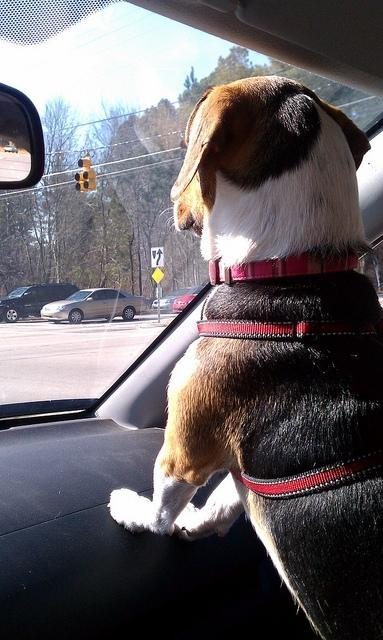car: (39, 286, 149, 323), (0, 282, 79, 324), (152, 287, 191, 313), (171, 286, 208, 312)
